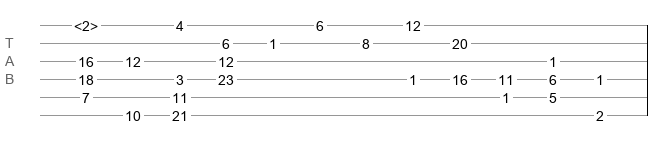1: (269, 36, 277, 46), (409, 72, 417, 82), (502, 90, 510, 100), (549, 54, 557, 64), (596, 72, 604, 82)
10: (125, 108, 141, 118)
11: (172, 90, 188, 100), (498, 72, 514, 82)
12: (125, 54, 141, 64), (218, 54, 234, 64), (405, 18, 421, 28)
16: (78, 54, 94, 64), (452, 72, 468, 82)
18: (78, 72, 94, 82)
2: (596, 108, 604, 118)
20: (452, 36, 468, 46)
21: (172, 108, 188, 118)
23: (218, 72, 234, 82)
3: (176, 72, 184, 82)
4: (176, 18, 184, 28)
5: (549, 90, 557, 100)
6: (222, 36, 230, 46), (316, 18, 324, 28), (549, 72, 557, 82)
7: (82, 90, 90, 100)
8: (362, 36, 370, 46)
harmonic: (74, 18, 98, 28)
